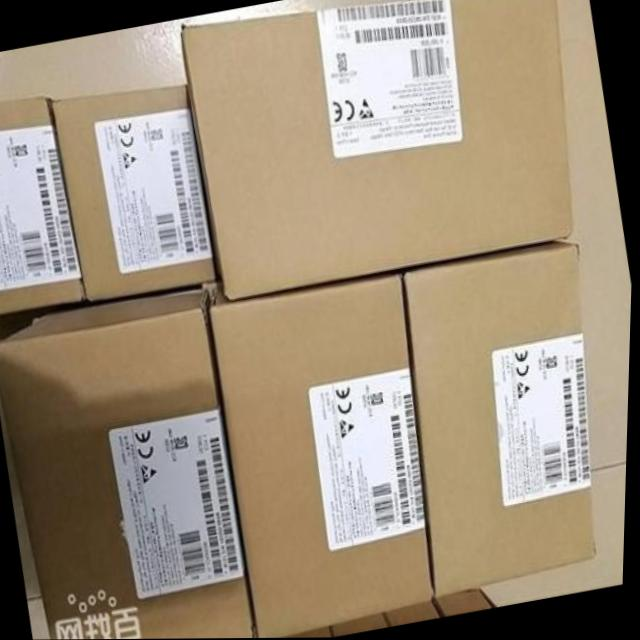box: (180, 0, 573, 301), (0, 289, 260, 640), (211, 273, 438, 638), (402, 243, 601, 600), (52, 85, 218, 301), (0, 95, 87, 312)
